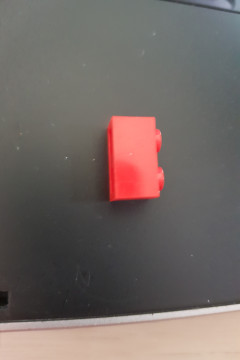1x2 red: (105, 115, 167, 205)
